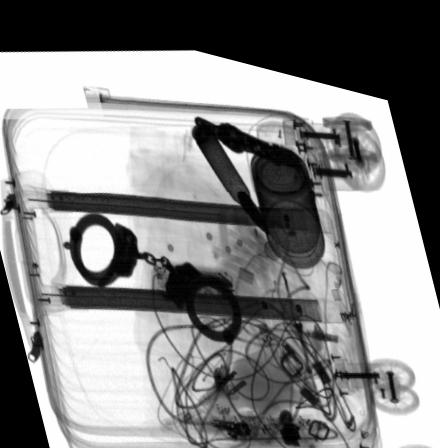Bullet: (190, 109, 270, 221)
Gun: (195, 105, 299, 151)
HandCuffs: (67, 206, 241, 332)
